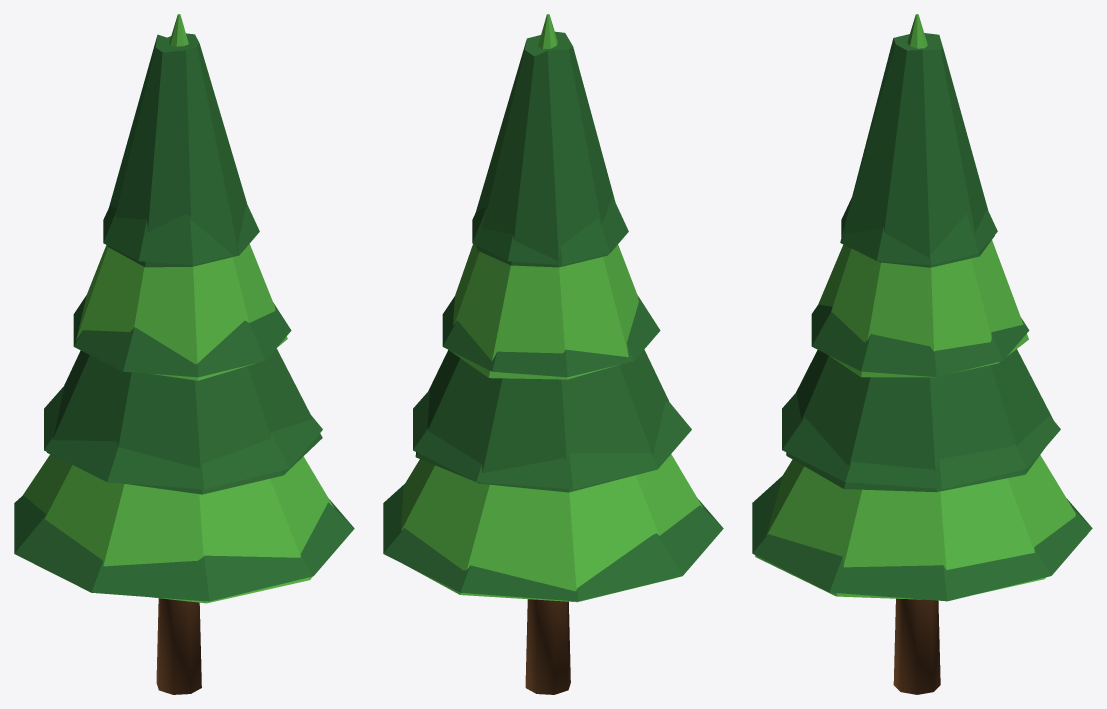
File: hd_pine_a.gltf
3 views of the same model, side by side, from view 1: azimuth 30°, elevation 25°; view 2: azimuth 150°, elevation 25°; view 3: azimuth 270°, elevation 25° (orthographic).
Parts seen in each view (by area): view 1: tier0, tier1, tier3, tier2, lip0, lip1, lip2, lip3, trunk; view 2: tier0, tier1, tier3, tier2, lip0, lip1, lip2, trunk, lip3; view 3: tier0, tier1, tier3, tier2, lip0, lip1, lip2, trunk, lip3.
Boxes of the visible parts, x1,y1,x2,y2 form: tier0: [23, 454, 333, 603]; tier1: [47, 348, 322, 494]; tier3: [108, 33, 246, 267]; tier2: [76, 244, 287, 380]; lip0: [14, 495, 354, 601]; lip1: [44, 385, 322, 489]; lip2: [73, 295, 291, 377]; lip3: [103, 203, 259, 265]; trunk: [156, 598, 201, 694]; tier0: [401, 454, 702, 602]; tier1: [415, 349, 669, 492]; tier3: [476, 31, 615, 267]; tier2: [449, 244, 638, 379]; lip0: [383, 484, 723, 601]; lip1: [413, 390, 691, 489]; lip2: [442, 295, 660, 377]; trunk: [525, 599, 570, 694]; lip3: [472, 196, 628, 265]; tier0: [755, 455, 1087, 599]; tier1: [786, 349, 1053, 492]; tier3: [840, 33, 994, 267]; tier2: [818, 240, 1028, 377]; lip0: [752, 475, 1092, 601]; lip1: [782, 393, 1060, 489]; lip2: [811, 304, 1029, 377]; trunk: [893, 598, 940, 694]; lip3: [841, 197, 997, 264].
Bounding box in the file's own units: 2.36 × 5.04 × 2.32.
